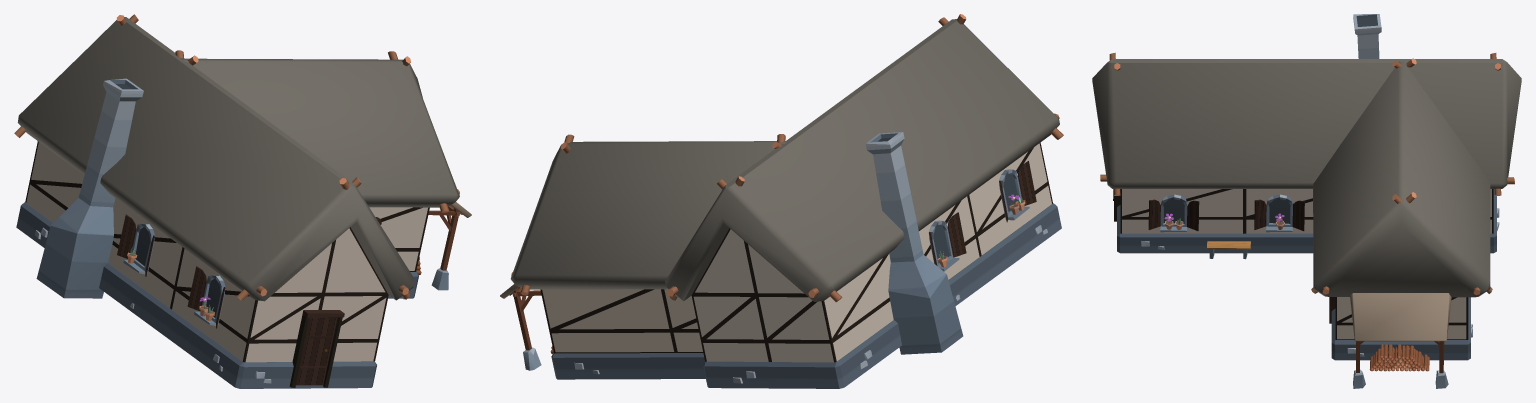
The model's file is House 1.fbx.
3 views of the same model, side by side, from view 1: azimuth 30°, elevation 25°; view 2: azimuth 150°, elevation 25°; view 3: azimuth 270°, elevation 25° (orthographic). The views are drawn at different scales.
Visible parts, largest first — view 1: House; view 2: House; view 3: House.
Part boxes in pixels (x1,y1,x2,y2): House: (14,14,471,388); House: (500,14,1063,388); House: (1092,14,1521,388).
Size of the model in its own units: 1400 by 905 by 1473.
